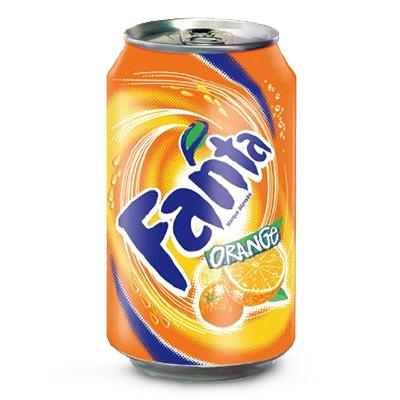metal: (107, 18, 297, 382)
